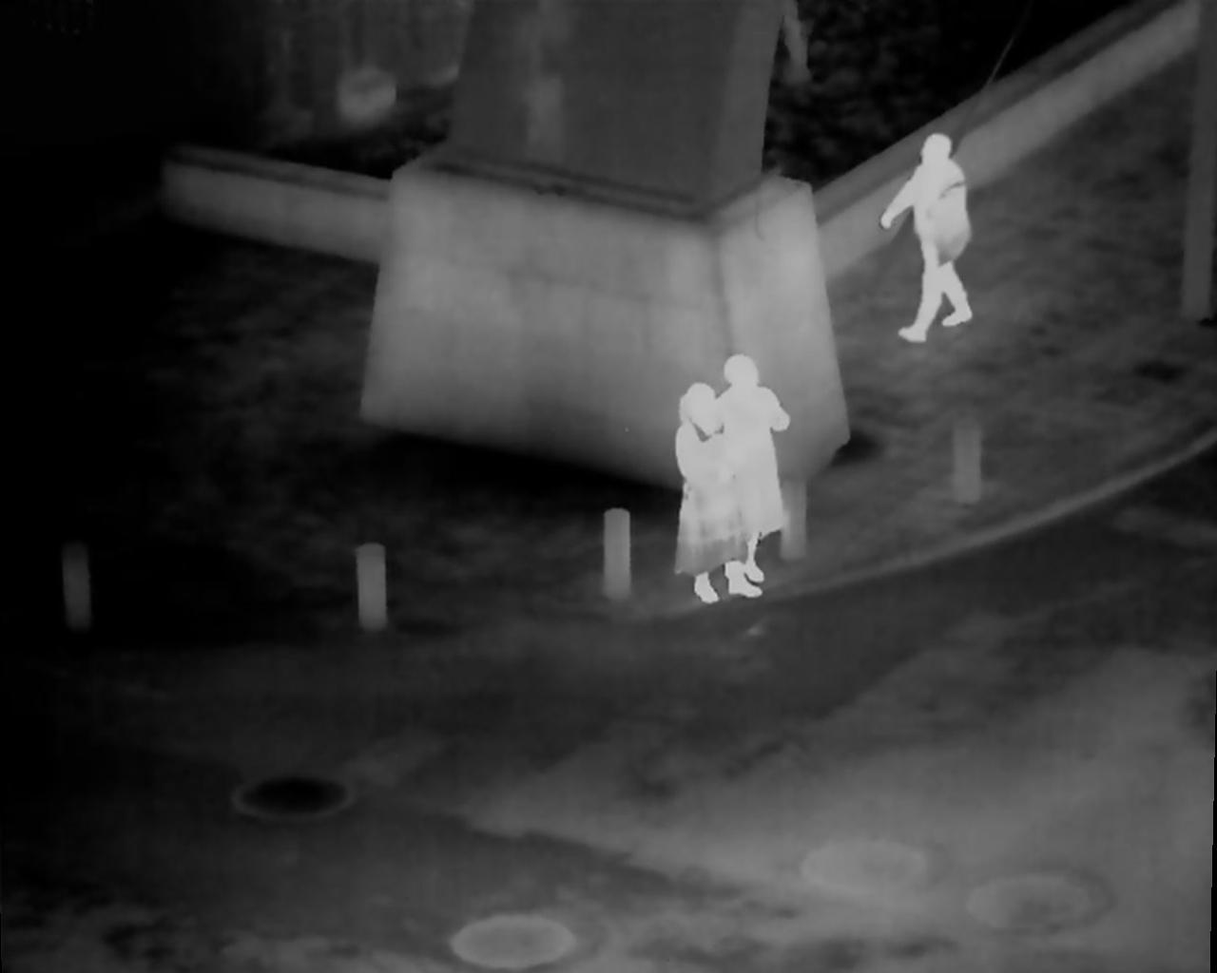person: (677, 383, 762, 607), (715, 357, 793, 601), (885, 134, 975, 337)
